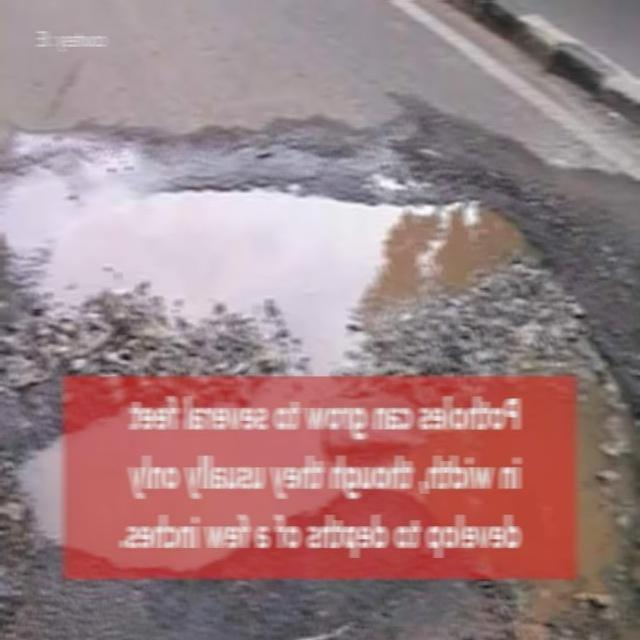Pothole: (0, 124, 640, 380), (515, 384, 639, 640), (4, 422, 69, 572)
